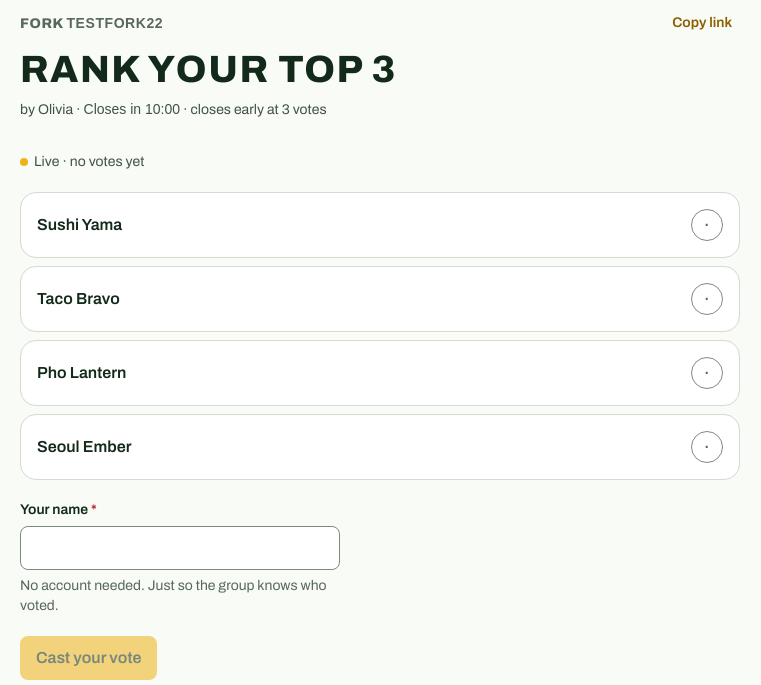
ForkRoom — guest voting (Phase 4) › requires a name before a guest ballot leaves the browser
This screenshot has width=761, height=685.
Step 1. Click the button "Sushi Yama ·" → (80,224), box top-left (20, 192), bottom-right (740, 258)
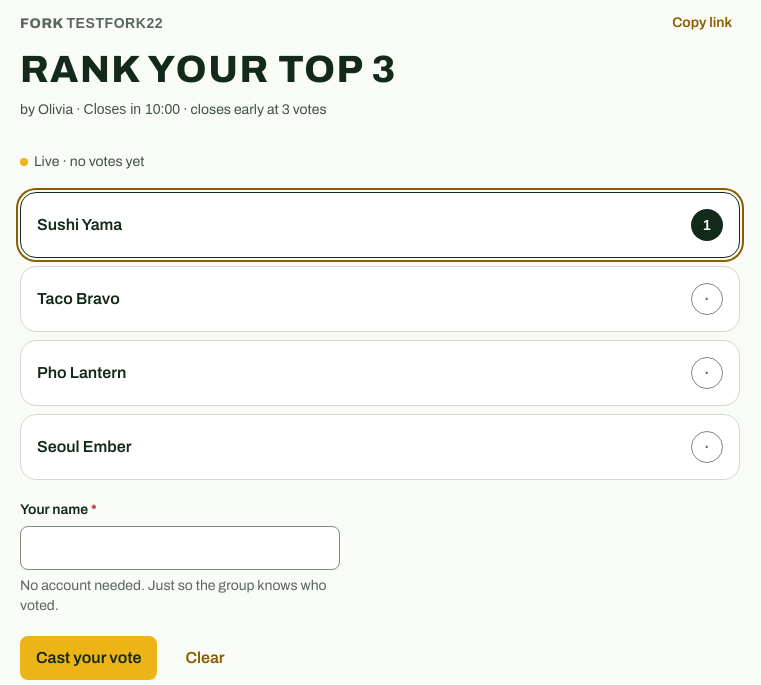
Step 2. Click the button "Cast your vote" → (89,658), box top-left (20, 636), bottom-right (157, 680)
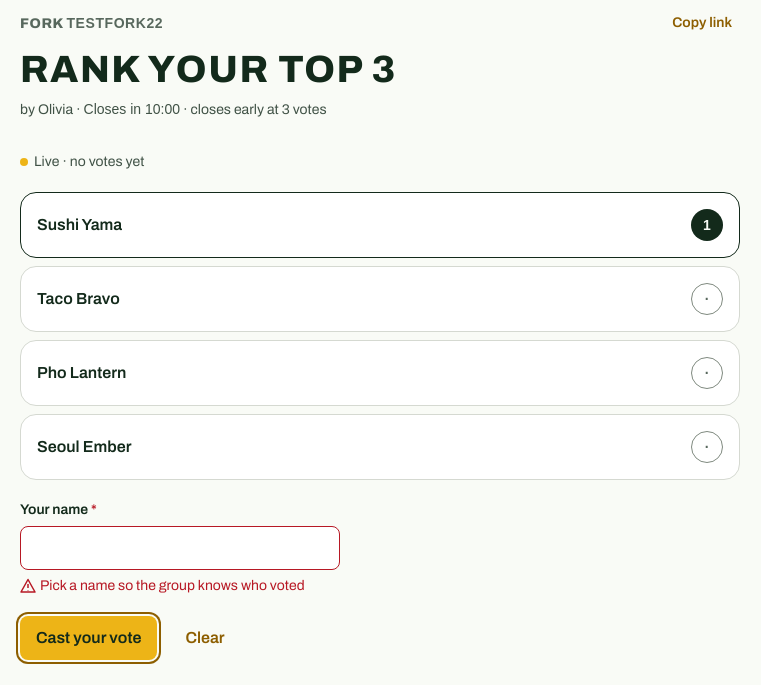
Check: the text "Pick a name so the group knows who voted" is shown, box top-left (20, 576), bottom-right (340, 596)
